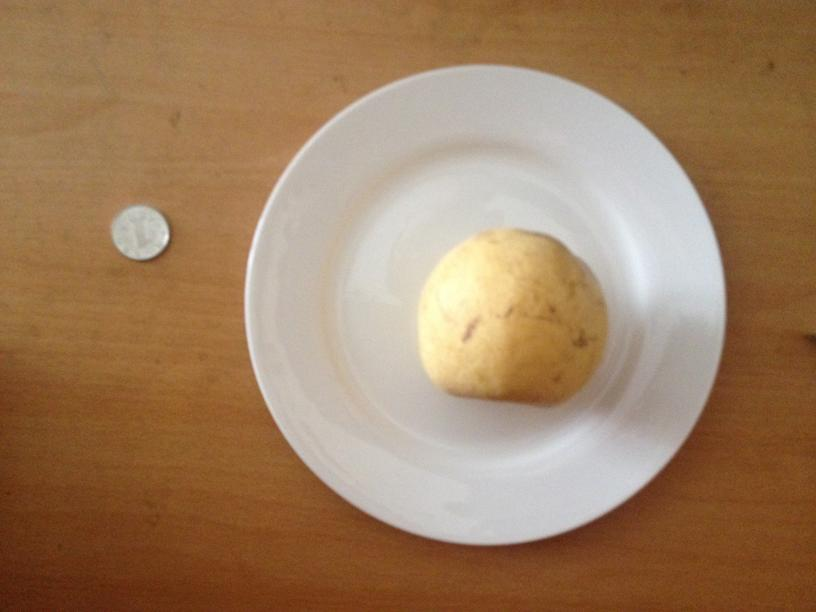coin: (106, 206, 171, 261)
pear: (414, 224, 604, 403)
